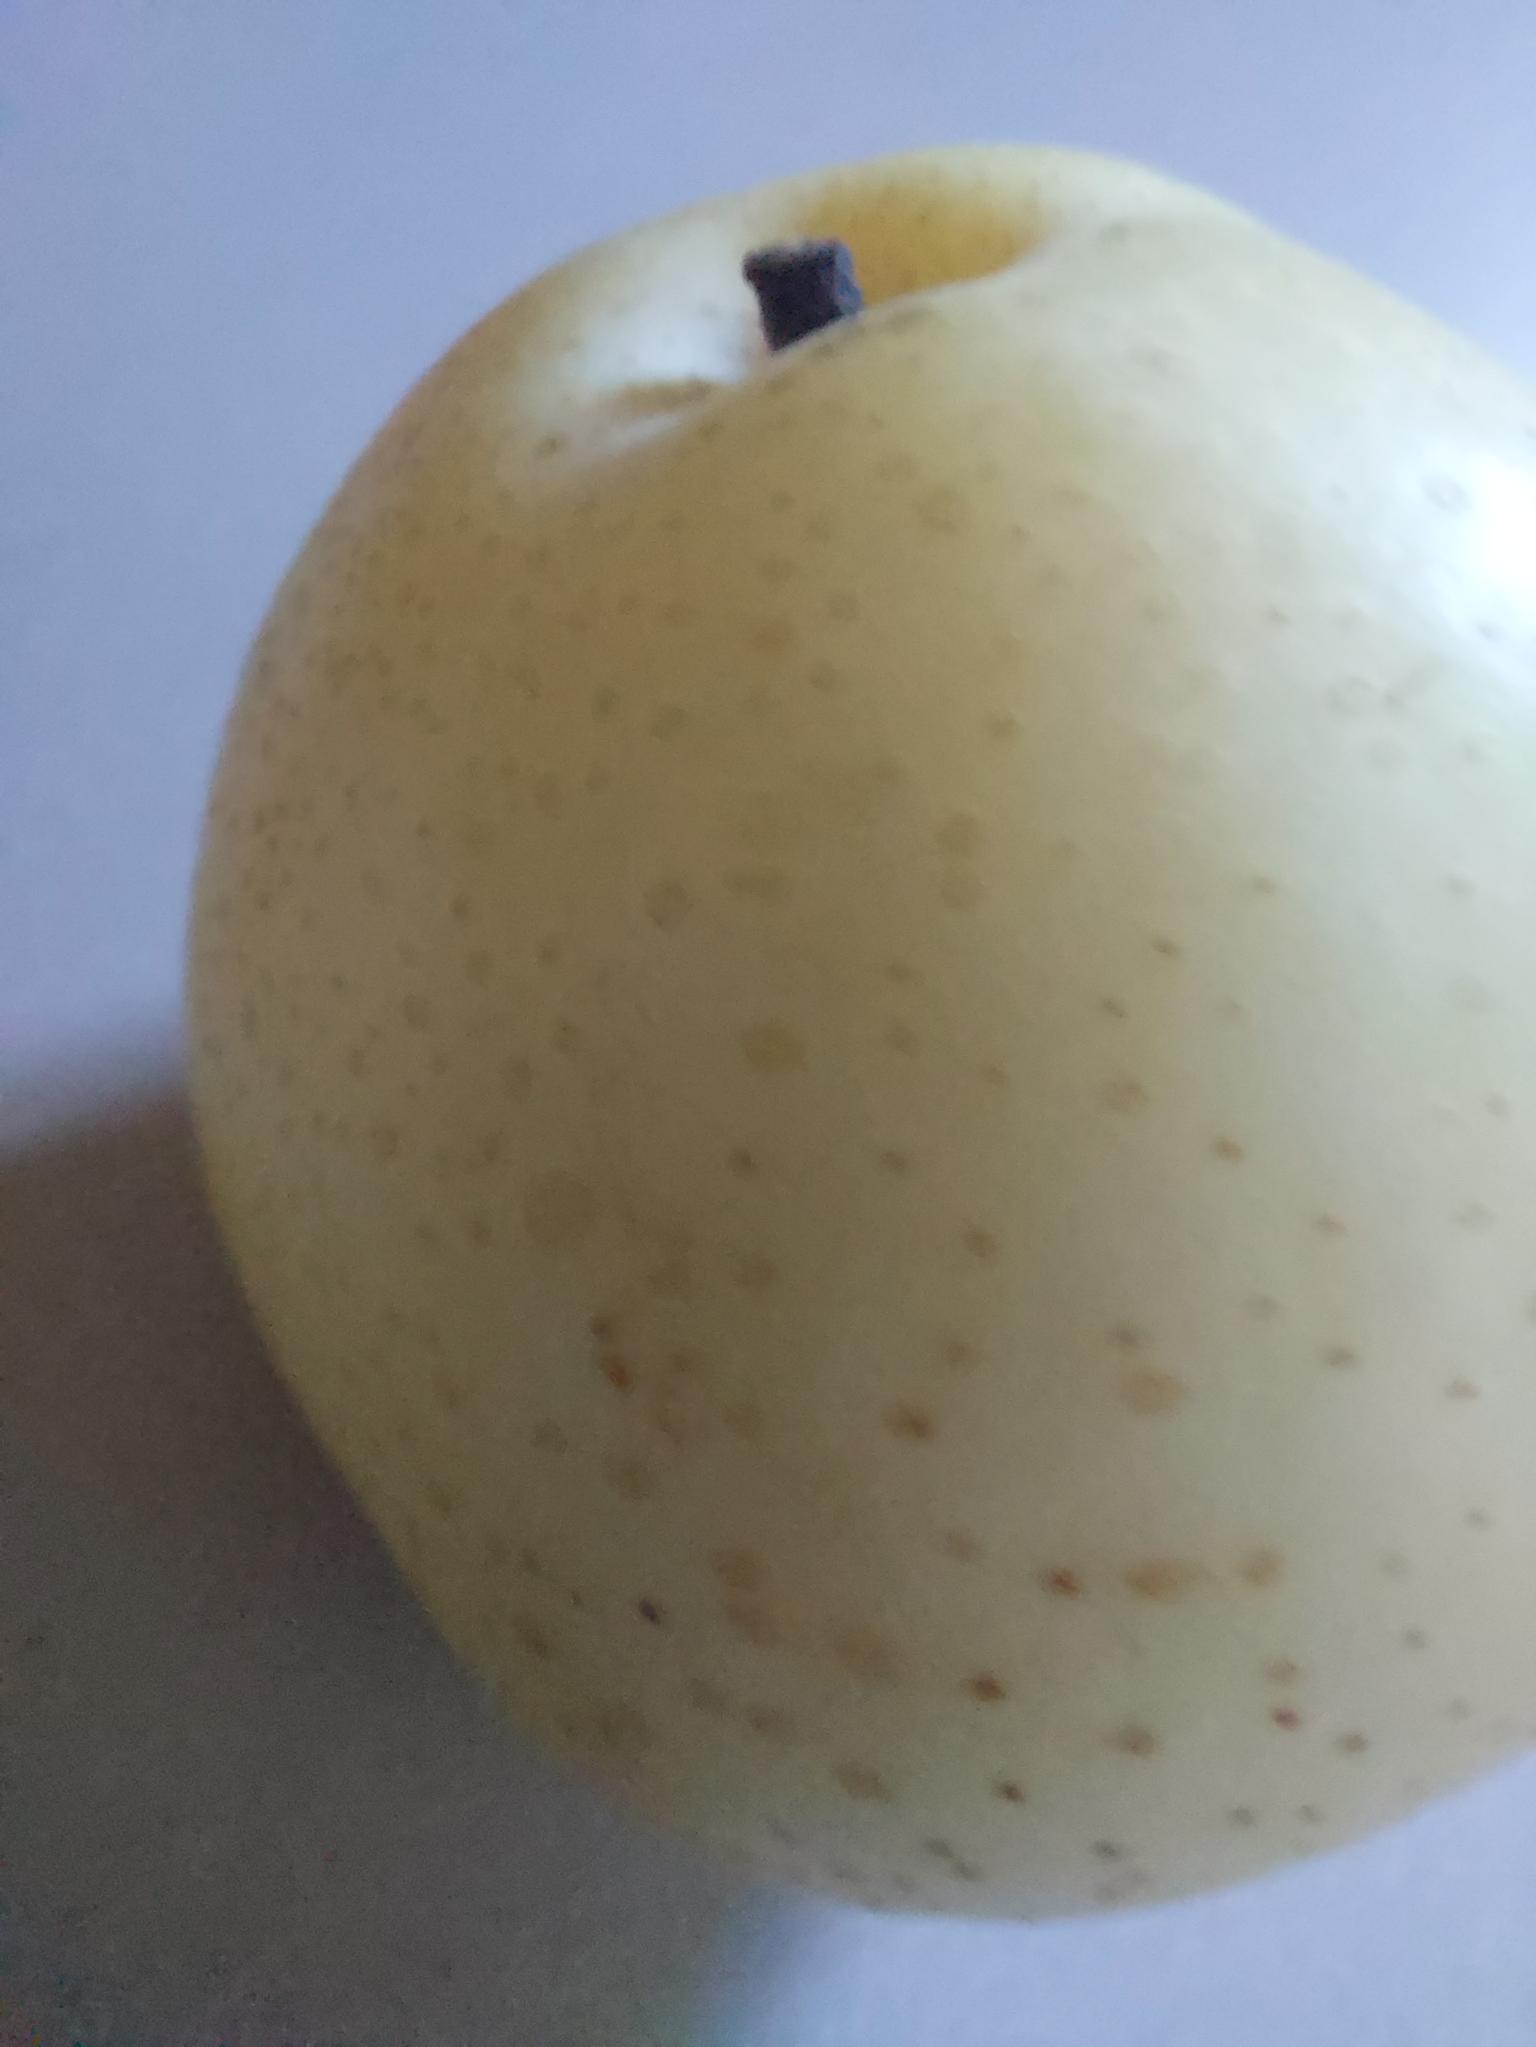Good Pear: (166, 132, 1536, 1923)
